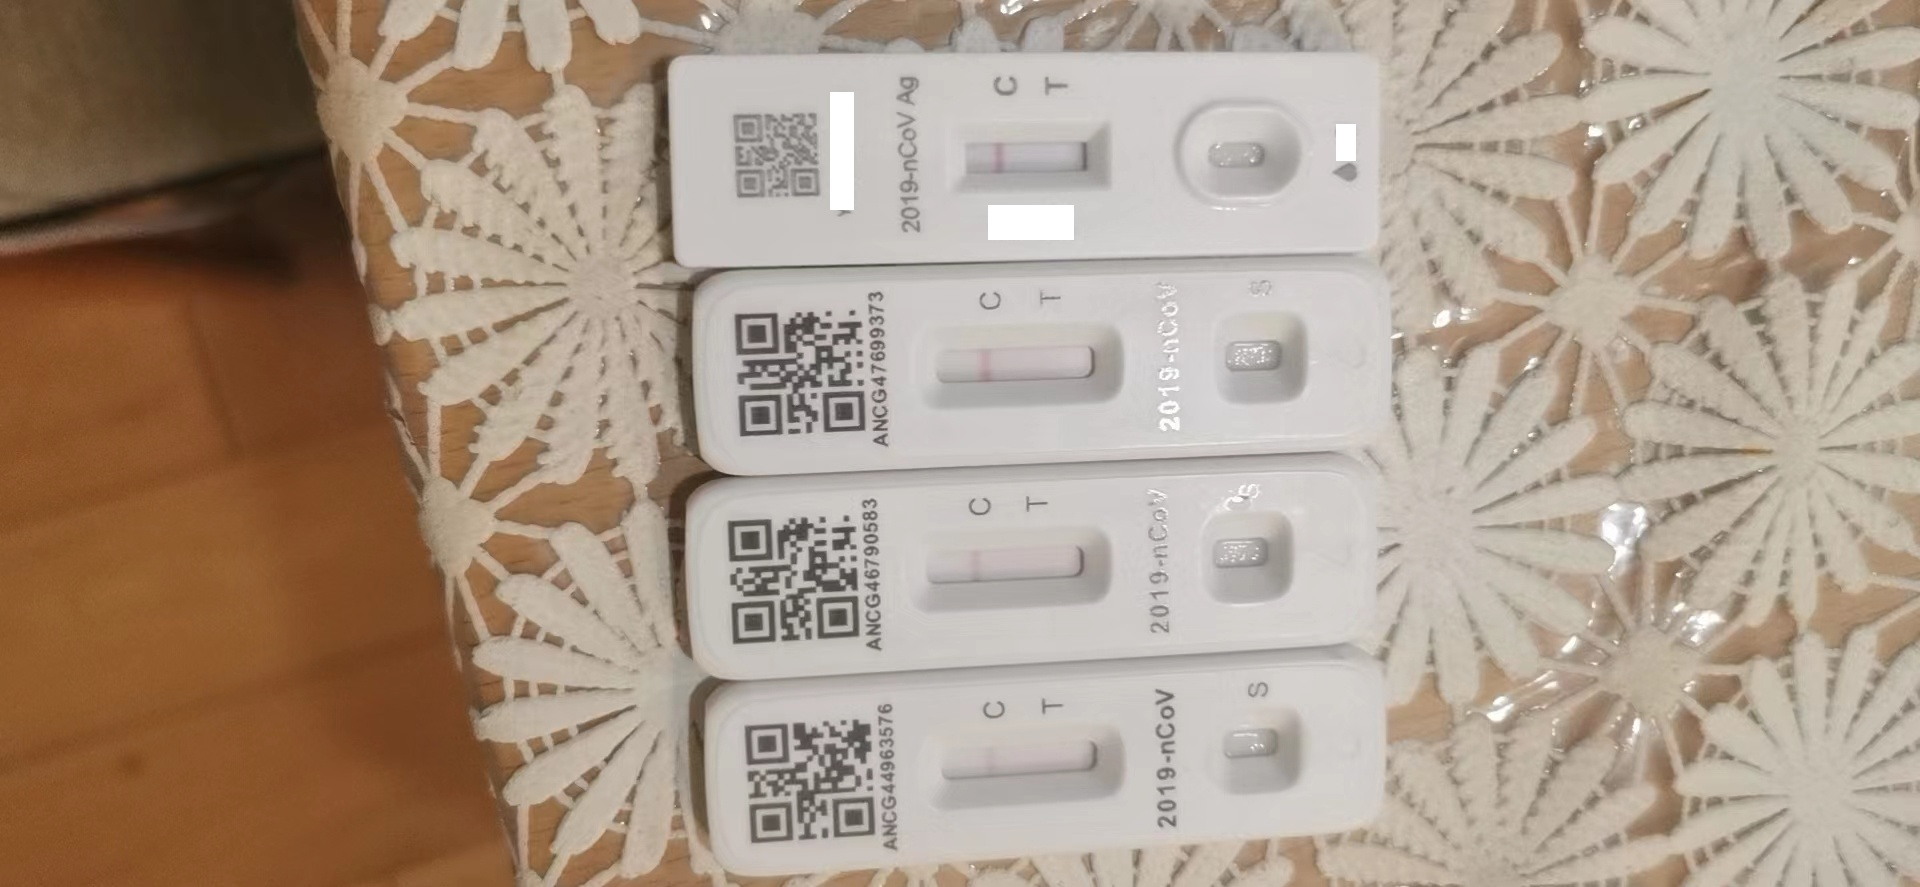negative: (921, 323, 1125, 407), (910, 528, 1116, 606), (956, 123, 1109, 187)
